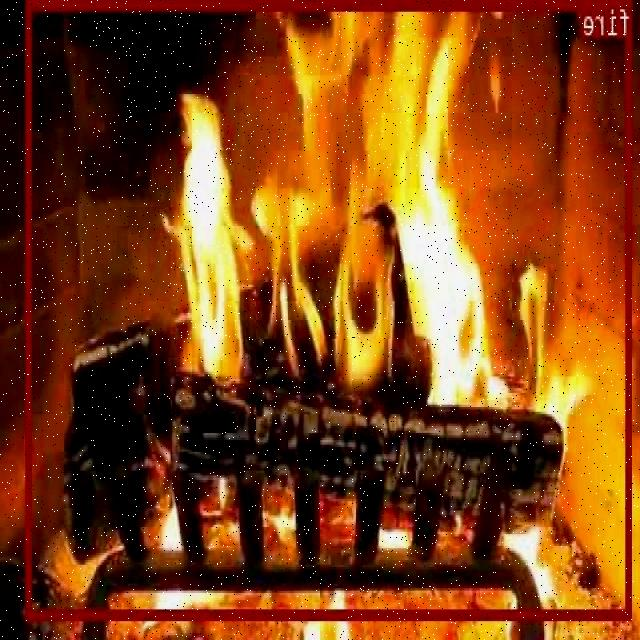fire: (26, 0, 634, 619)
